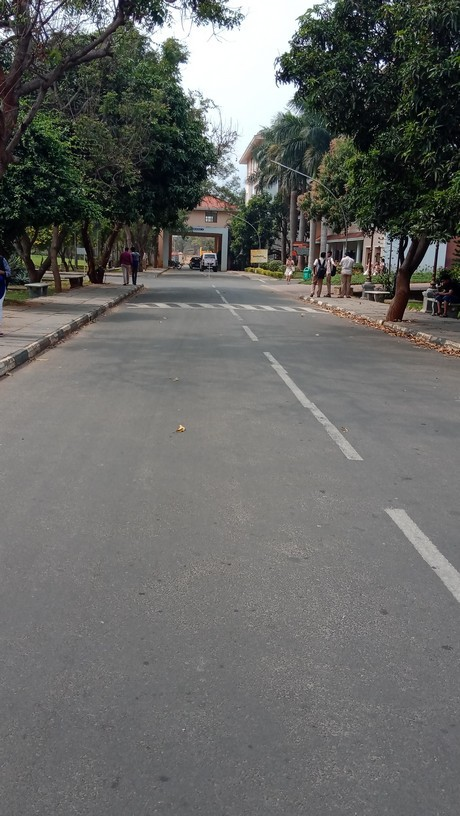bump: (119, 298, 334, 315)
